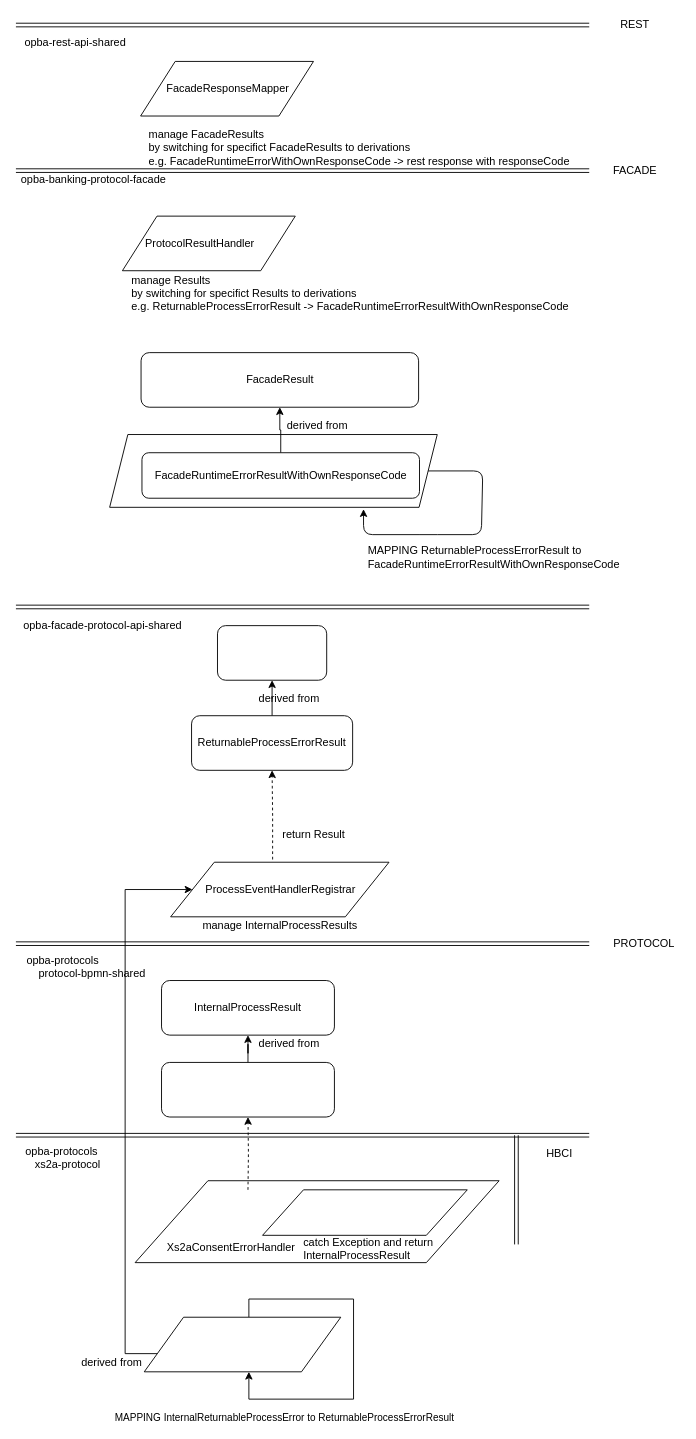
This 696x1439 diagram has some shape labels left out. Here are the shapes that lost their labels. From the top down, the centre of each, then its label:
the point at 272,652: Result
the point at 247,1089: InternalReturnableProcessError
the point at 364,1212: Xs2aAccountListingService
the point at 242,1344: Xs2aOutcomeMapper
